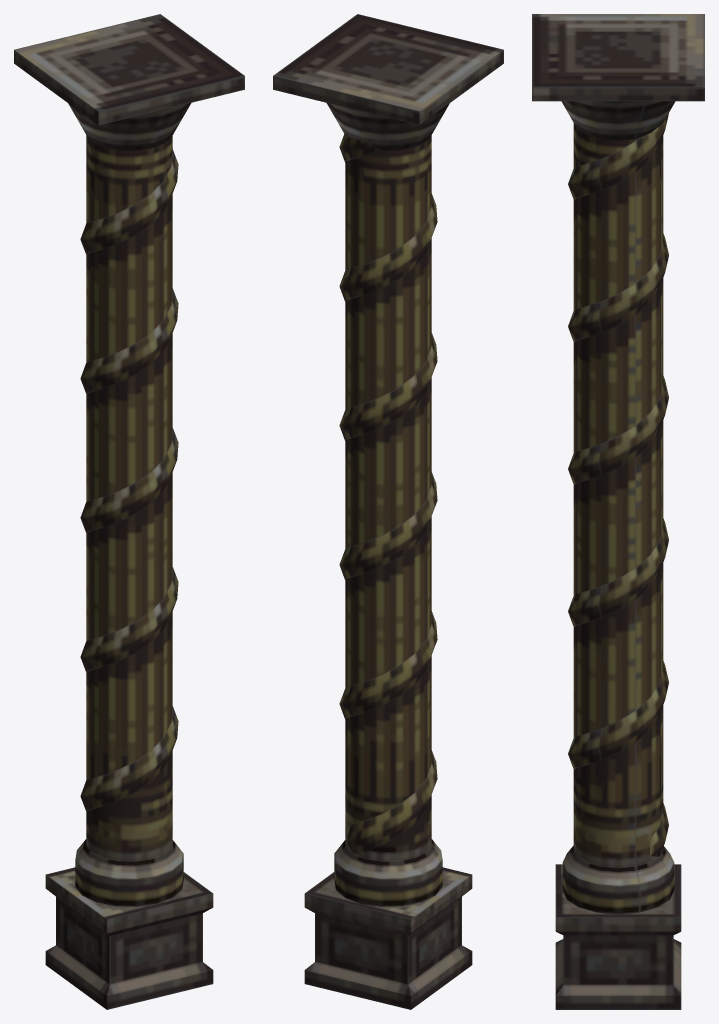
Rendered from EnvBdgMD_Mansion_A_Outdoor_Piller_A_Right.FBX.
3 views of the same model, side by side, from view 1: azimuth 30°, elevation 25°; view 2: azimuth 150°, elevation 25°; view 3: azimuth 270°, elevation 25° (orthographic). The views are drawn at different scales.
Parts seen in each view (by area): view 1: EnvBdgMD_Mansion_A_Outdoor_Piller_A_Right; view 2: EnvBdgMD_Mansion_A_Outdoor_Piller_A_Right; view 3: EnvBdgMD_Mansion_A_Outdoor_Piller_A_Right.
Part boxes in pixels (<box>): EnvBdgMD_Mansion_A_Outdoor_Piller_A_Right: <box>14,14,244,1009</box>; EnvBdgMD_Mansion_A_Outdoor_Piller_A_Right: <box>273,14,503,1009</box>; EnvBdgMD_Mansion_A_Outdoor_Piller_A_Right: <box>532,14,704,1009</box>.
Size of the model in its own units: 110 by 655 by 110.
Materials: 1 (1 with a texture image).
